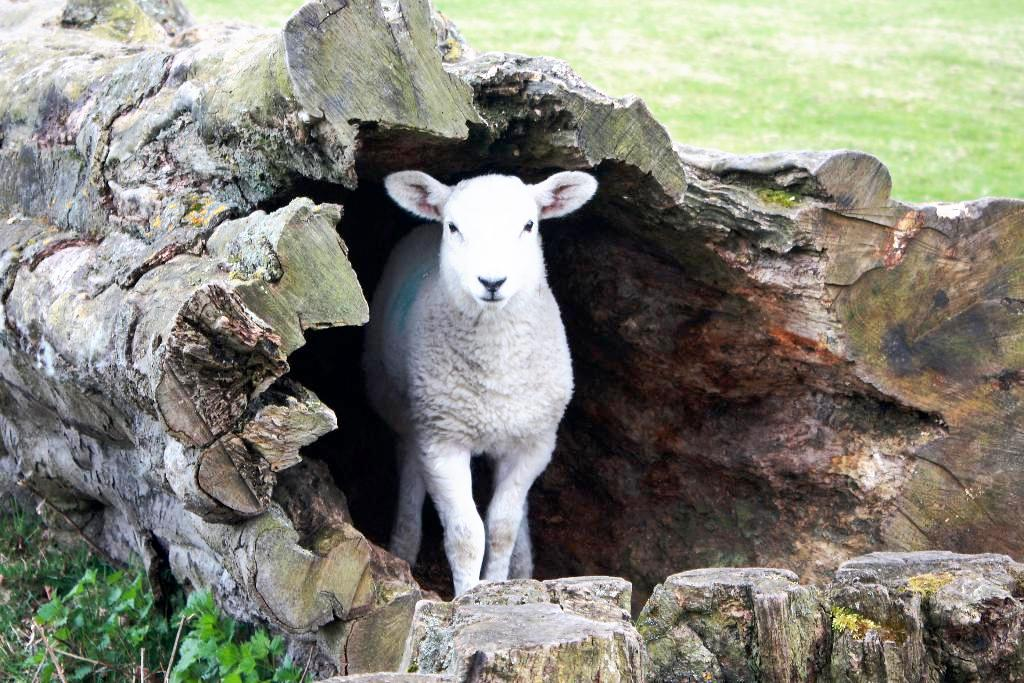Sheep: (366, 159, 598, 602)
